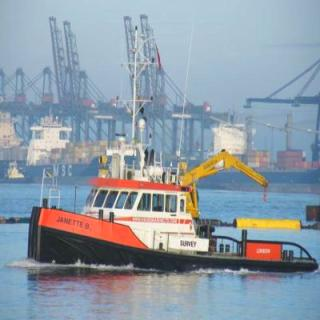Tug Boat: (11, 13, 295, 264)
